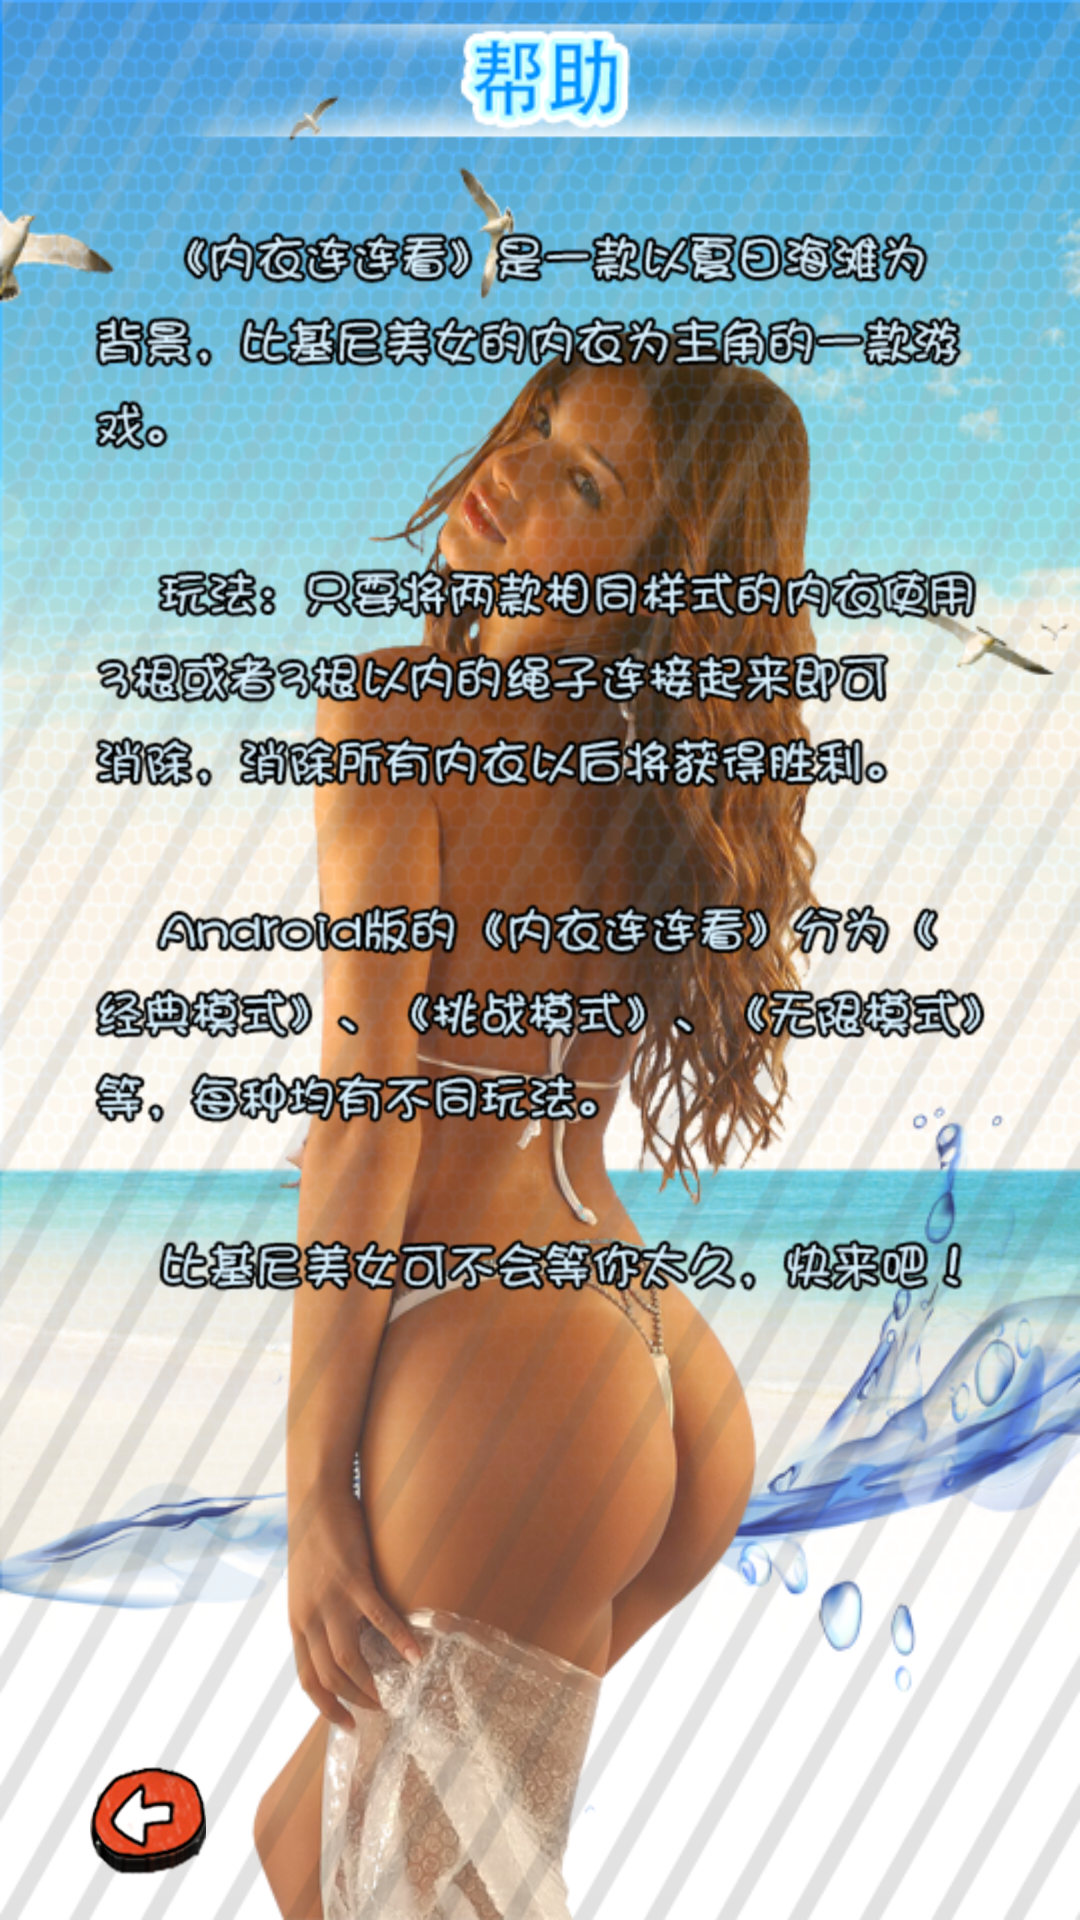

Locate icon controls on the screen. Image size 1080w x 1920h, boxes as (x1, y1, x2, y2).
select guan back: (90, 1767, 206, 1875)
